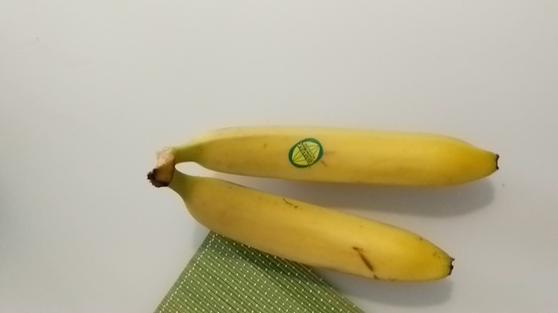banana: (147, 168, 460, 288), (162, 123, 512, 186)
